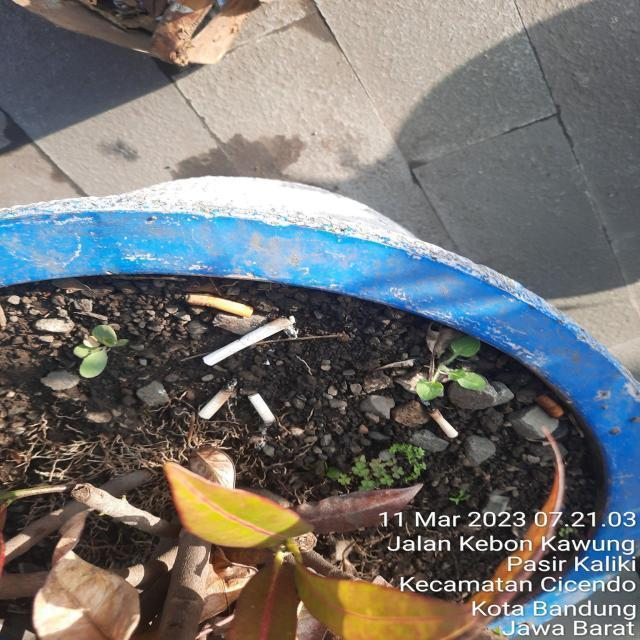rokok: (196, 311, 304, 371), (174, 286, 256, 322), (196, 371, 246, 429), (244, 388, 278, 436), (426, 401, 458, 445)
